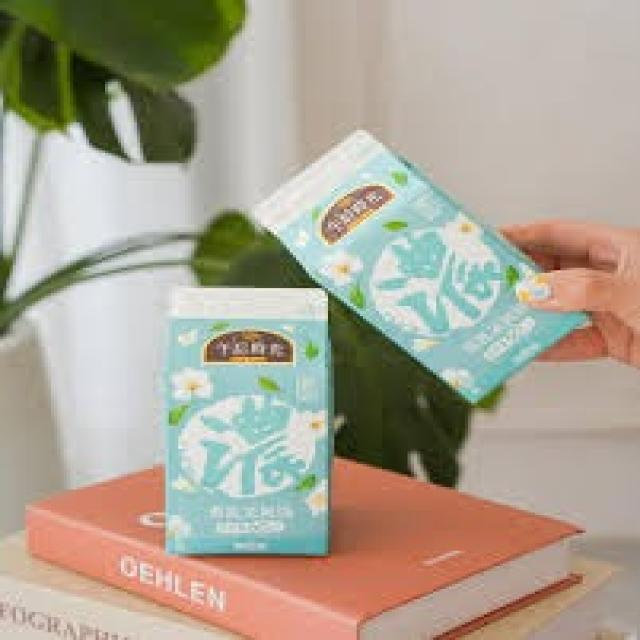Known_MilkGreenTea: (259, 127, 592, 404), (165, 292, 329, 554)
